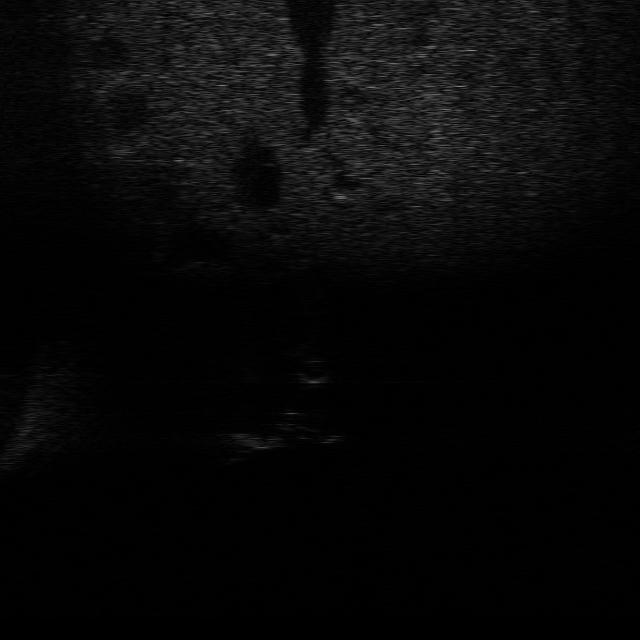ball: (289, 354, 339, 387)
square cage: (215, 428, 287, 462)
tyre: (274, 415, 346, 447)
